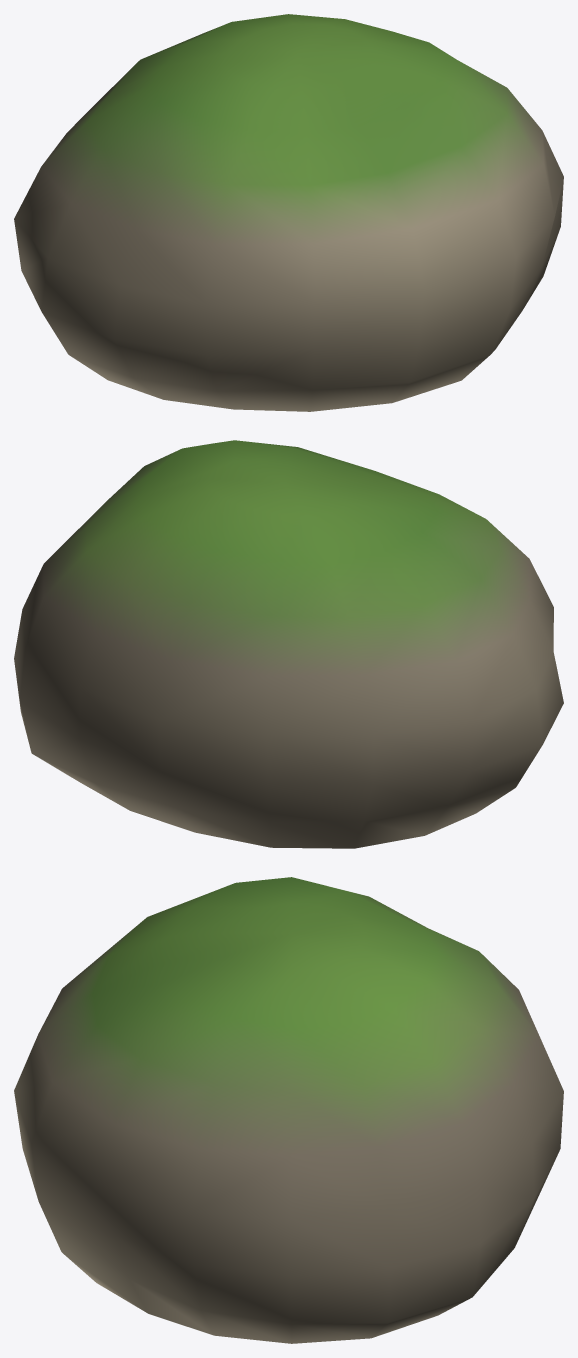
Rendered from RockC.fbx.
3 views of the same model, one above another, from view 1: azimuth 30°, elevation 25°; view 2: azimuth 150°, elevation 25°; view 3: azimuth 270°, elevation 25° (orthographic). The views are drawn at different scales.
Visible parts, largest first — view 1: RockC; view 2: RockC; view 3: RockC.
Boxes of the visible parts, x1,y1,x2,y2 form: RockC: (14, 14, 563, 411); RockC: (14, 440, 563, 848); RockC: (14, 877, 563, 1343).
Size of the model in its own units: 0.5205 by 0.282 by 0.455.
